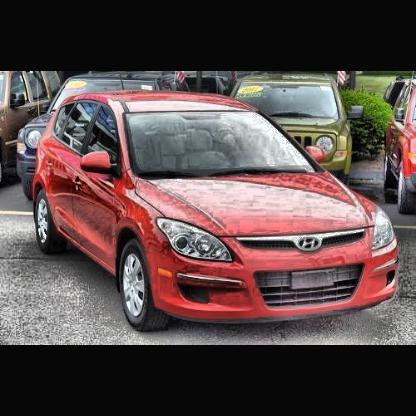Hyundai Elantra Touring Hatchback 2012: (28, 85, 400, 333)
